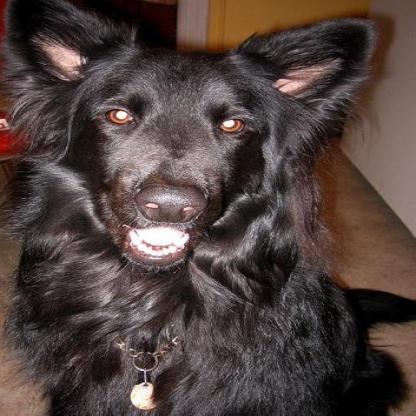groenendael: (0, 0, 412, 413)
